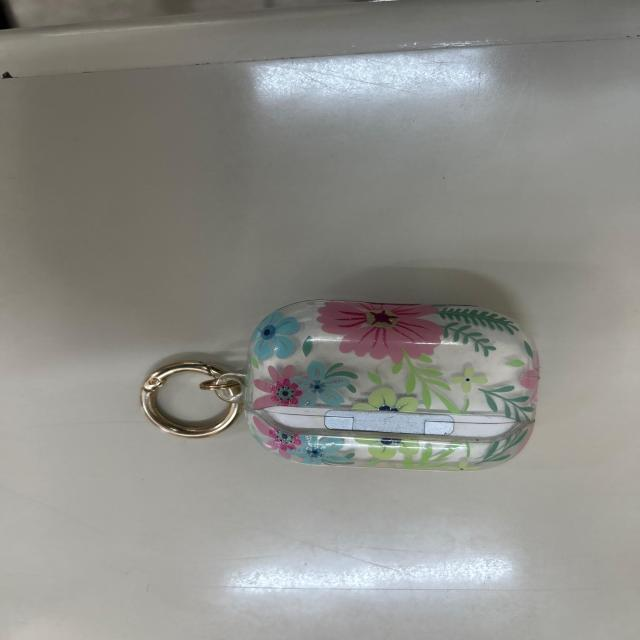inorganic: (140, 297, 544, 469)
